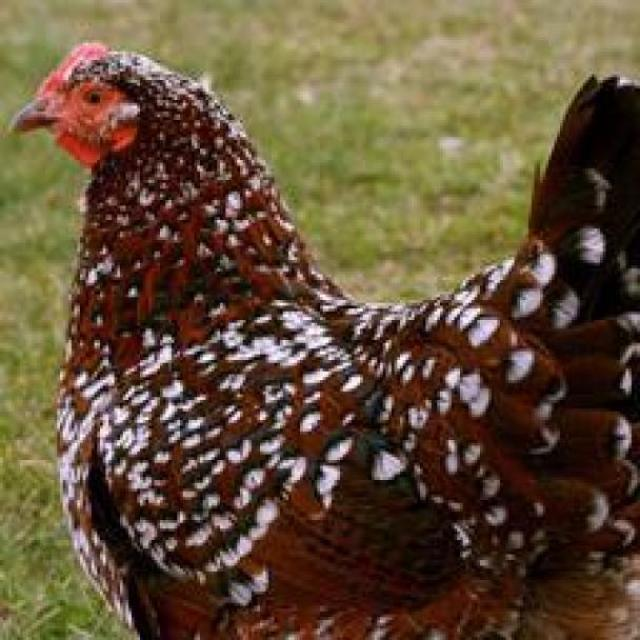Chicken: (7, 34, 639, 640)
